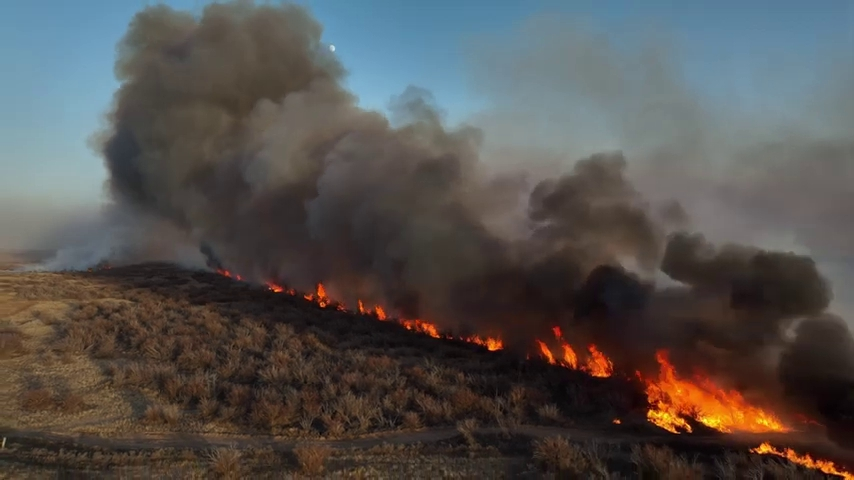forest_fire: (635, 352, 793, 433), (535, 327, 615, 376), (751, 442, 853, 479), (392, 318, 503, 350), (303, 283, 346, 309), (358, 300, 385, 319), (268, 283, 296, 294)
